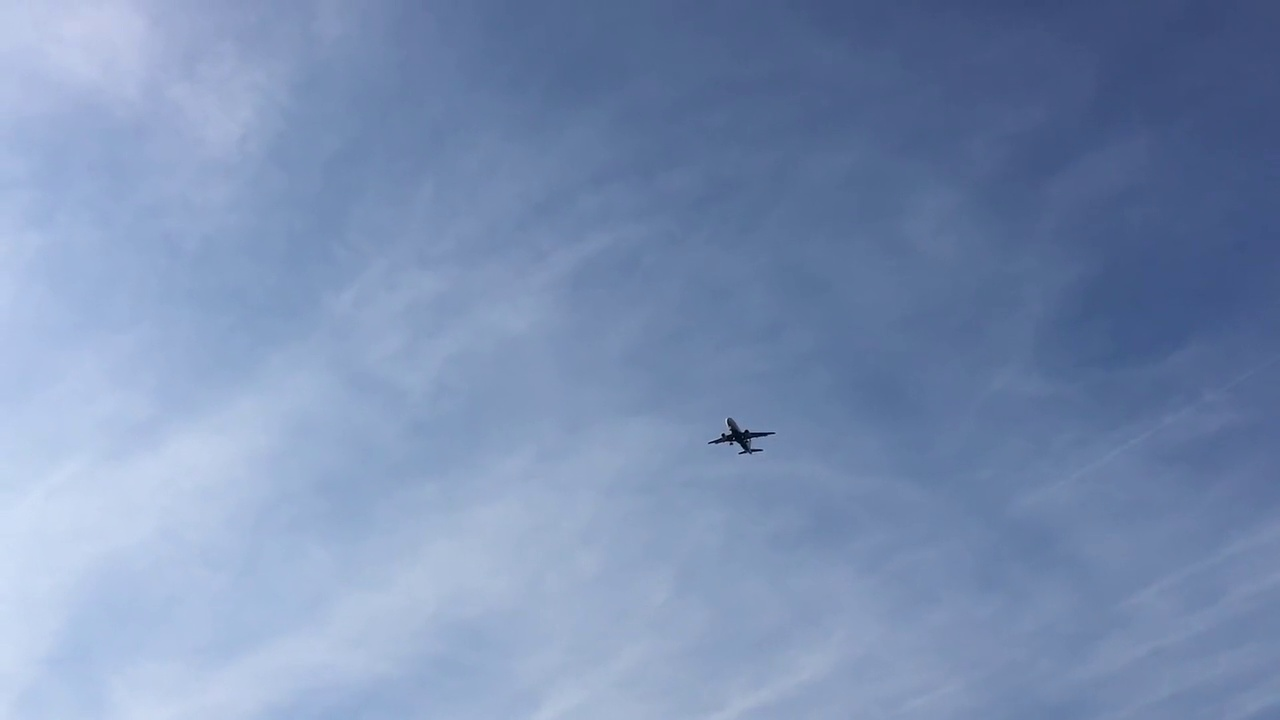plane: (705, 416, 777, 456)
